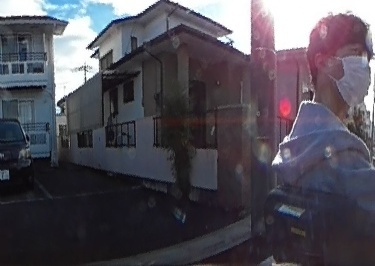person: (280, 8, 375, 253)
